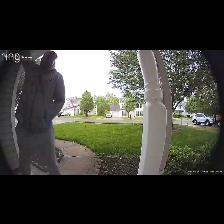person: (16, 51, 65, 174)
